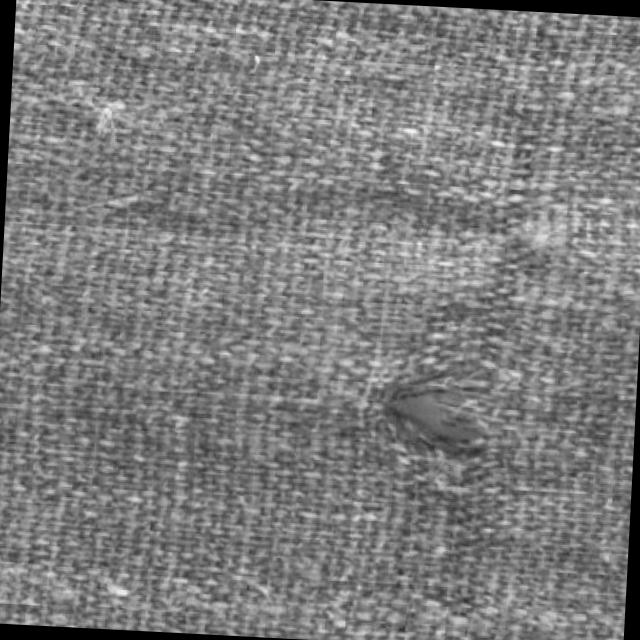hole: (362, 354, 501, 482)
